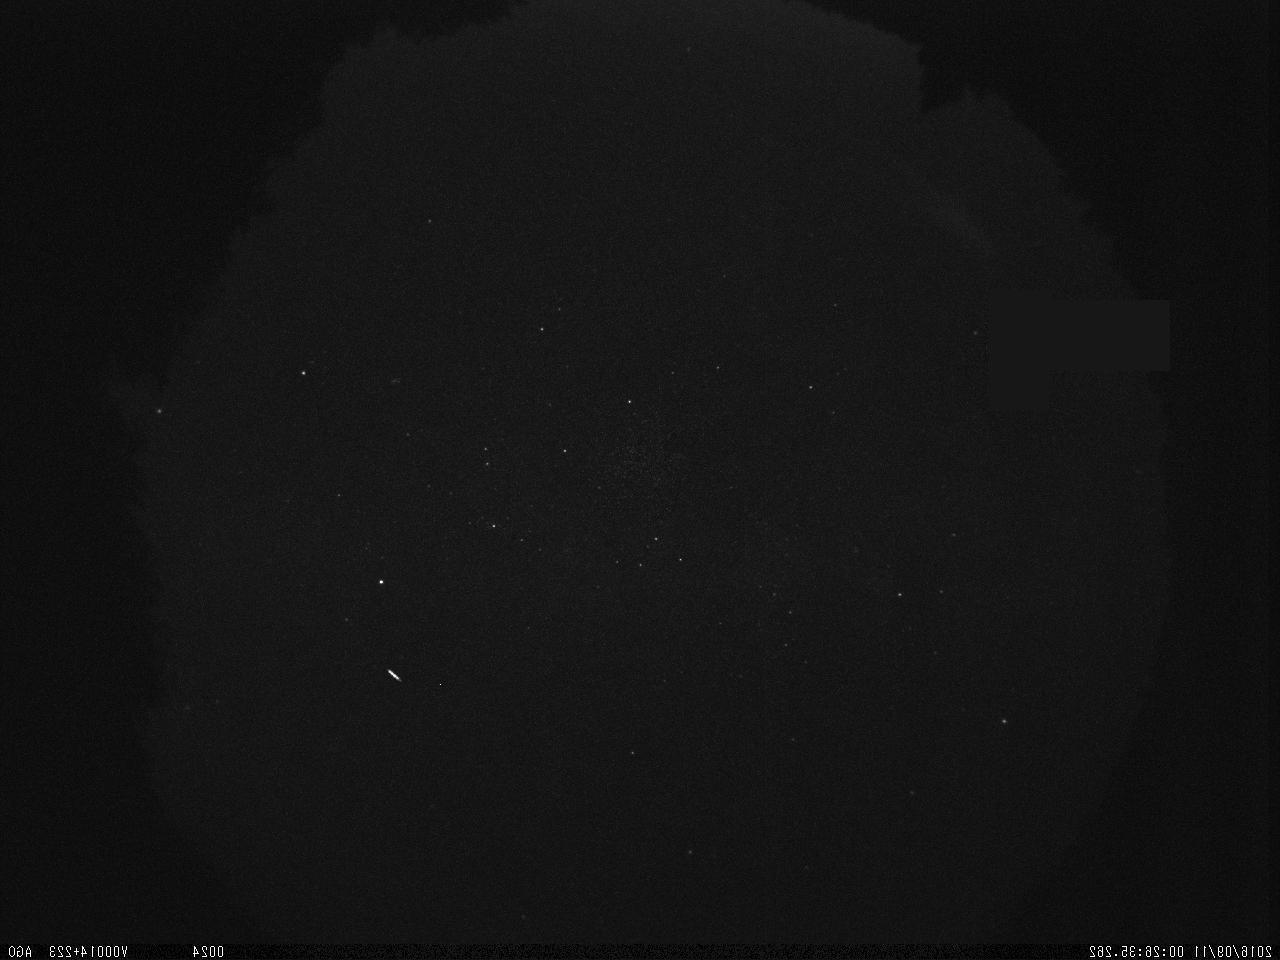meteor: (383, 667, 404, 687)
